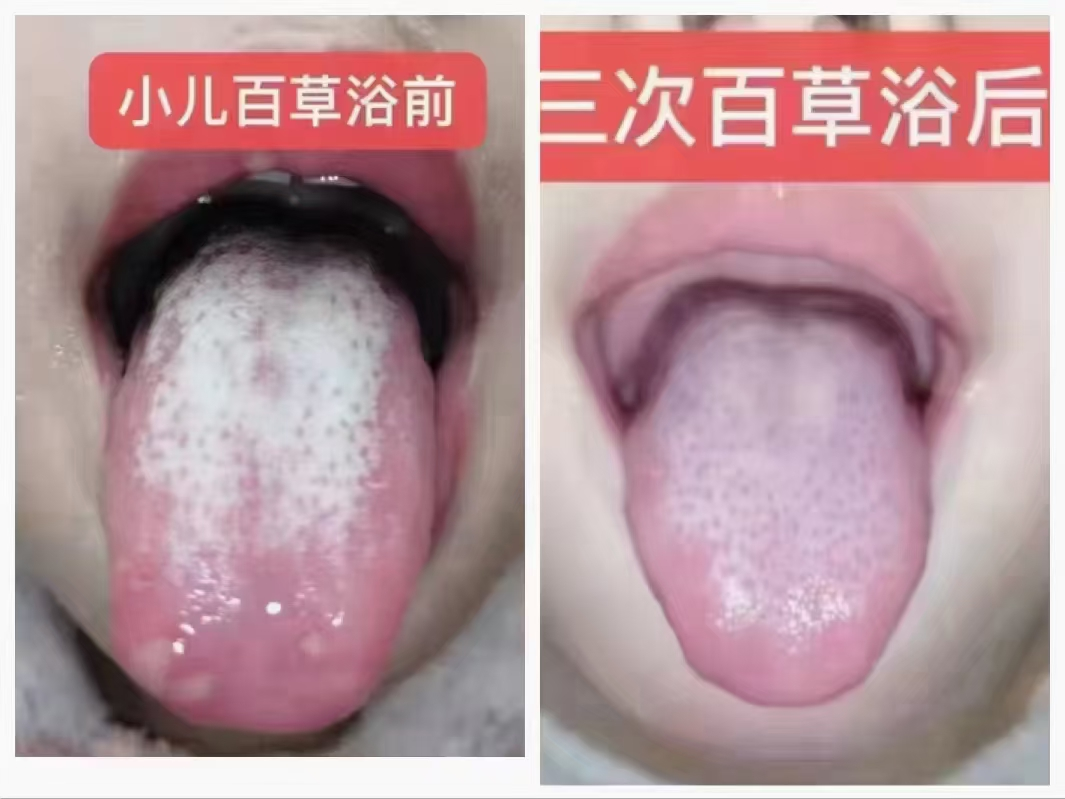baitaishe: (102, 230, 438, 733), (626, 287, 933, 705)
